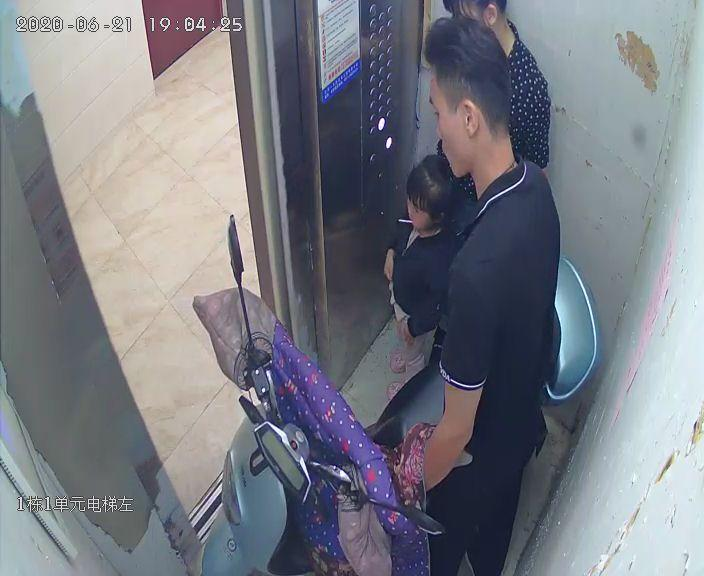Electric-bicycle: (191, 216, 607, 575)
